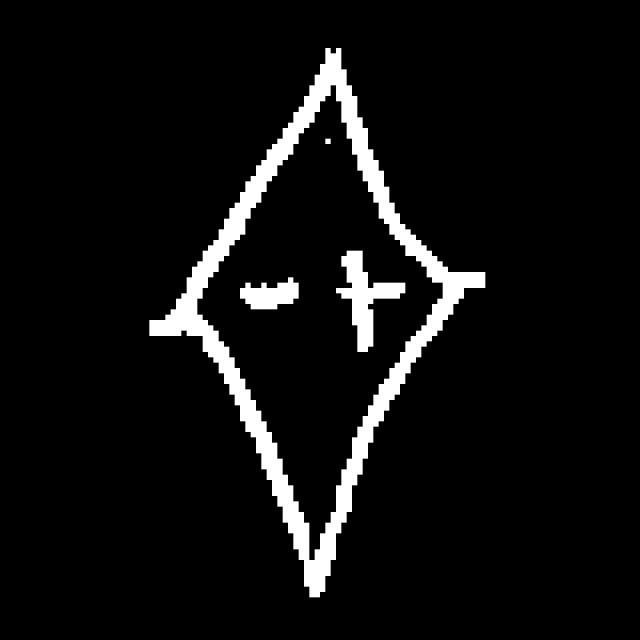dependant_voltage: (174, 49, 466, 616)
